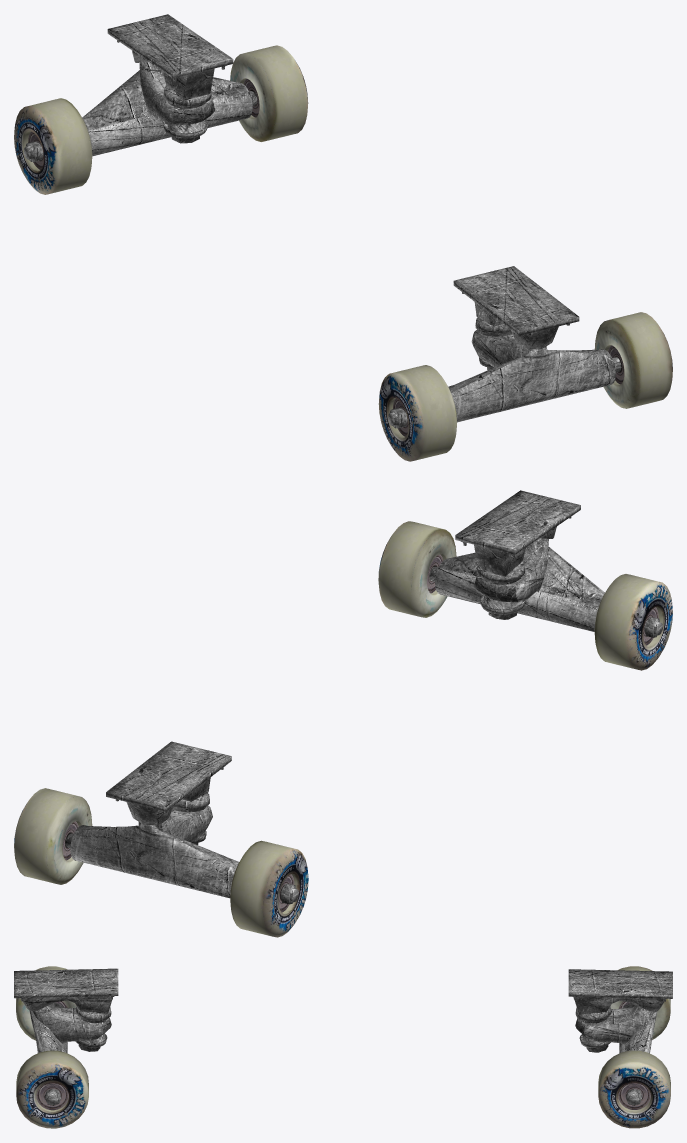
File: wheel.obj
3 views of the same model, one above another, from view 1: azimuth 30°, elevation 25°; view 2: azimuth 150°, elevation 25°; view 3: azimuth 270°, elevation 25° (orthographic). The views are drawn at different scales.
Visible parts, largest first — view 1: Truck_front_0, Truck_back_0, wheel_back_right_0, wheel_front_right_0, wheel_front_left_0, wheel_back_left_0; view 2: Truck_back_0, Truck_front_0, wheel_front_right_0, wheel_back_right_0, wheel_front_left_0, wheel_back_left_0; view 3: Truck_back_0, Truck_front_0, wheel_back_left_0, wheel_front_left_0, wheel_front_right_0, wheel_back_right_0, bearing_front_left_1_0, bearing_back_left_1_0.
Boxes of the visible parts, box(x1,y1,x2,y2) form: Truck_front_0: box(388, 266, 621, 428); Truck_back_0: box(24, 14, 257, 161); wheel_back_right_0: box(14, 98, 92, 194); wheel_front_right_0: box(378, 365, 456, 461); wheel_front_left_0: box(594, 312, 672, 408); wheel_back_left_0: box(230, 45, 308, 141); Truck_back_0: box(65, 741, 298, 904); Truck_front_0: box(429, 490, 662, 637); wheel_front_right_0: box(594, 574, 672, 670); wheel_back_right_0: box(230, 840, 308, 937); wheel_front_left_0: box(378, 521, 456, 617); wheel_back_left_0: box(14, 788, 92, 884); Truck_back_0: box(568, 969, 672, 1105); Truck_front_0: box(14, 968, 118, 1105); wheel_back_left_0: box(598, 1050, 670, 1128); wheel_front_left_0: box(16, 1050, 88, 1128); wheel_front_right_0: box(16, 966, 76, 1040); wheel_back_right_0: box(610, 966, 670, 1039); bearing_front_left_1_0: box(36, 1082, 68, 1110); bearing_back_left_1_0: box(618, 1082, 650, 1109).
Size of the model in its own units: 2.03 by 0.8987 by 5.39.
